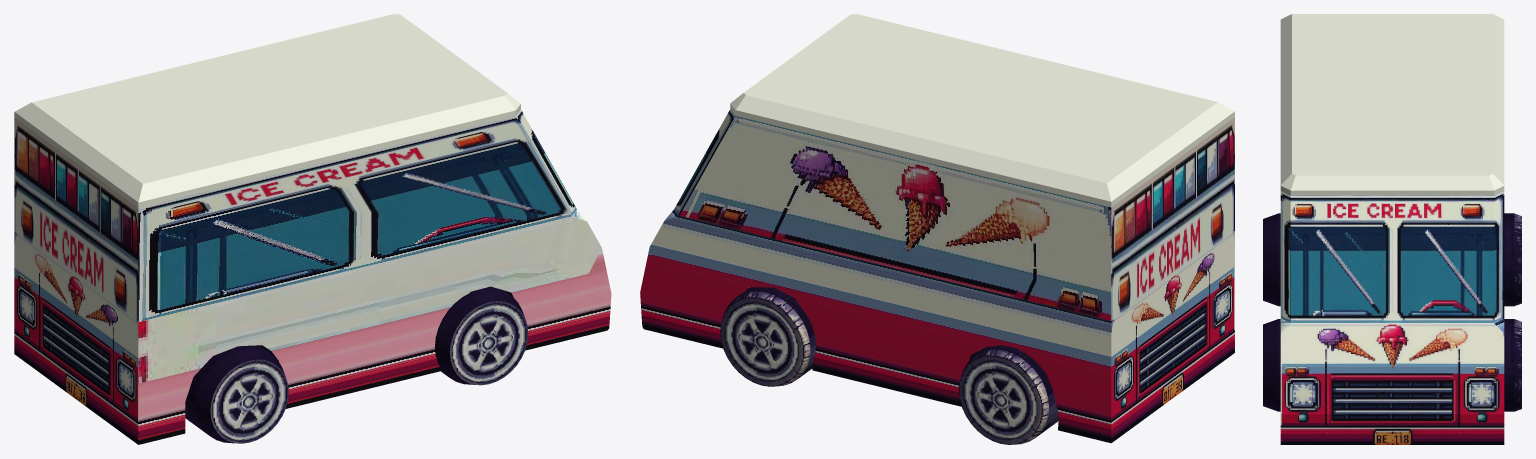
File: IceCreamTruck.glb
3 views of the same model, side by side, from view 1: azimuth 30°, elevation 25°; view 2: azimuth 150°, elevation 25°; view 3: azimuth 270°, elevation 25° (orthographic). The views are drawn at different scales.
Parts seen in each view (by area): view 1: OIG2.F.gl3W8p5n7Q, Cylinder, Cylinder.001; view 2: OIG2.F.gl3W8p5n7Q, Cylinder, Cylinder.001; view 3: OIG2.F.gl3W8p5n7Q, Cylinder, Cylinder.001.
Boxes of the visible parts, x1,y1,x2,y2 form: OIG2.F.gl3W8p5n7Q: (14,14,611,444); Cylinder: (185,345,288,443); Cylinder.001: (435,286,528,385); OIG2.F.gl3W8p5n7Q: (640,14,1234,443); Cylinder: (959,345,1058,444); Cylinder.001: (720,287,815,386); OIG2.F.gl3W8p5n7Q: (1280,14,1504,444); Cylinder: (1263,213,1521,306); Cylinder.001: (1263,319,1521,411).
Size of the model in its own units: 1.29 by 0.7168 by 0.6784.
Materials: 2 (2 with a texture image).
